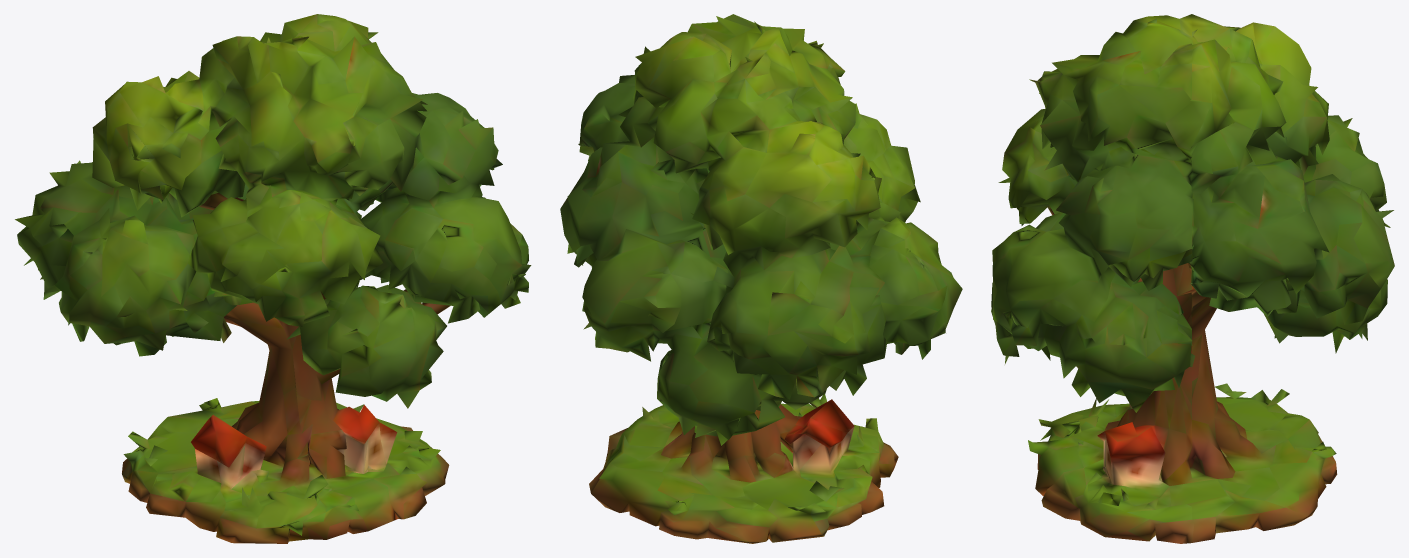
File: oak.glb
3 renders of one model, left to right at view 1: azimuth 30°, elevation 25°; view 2: azimuth 150°, elevation 25°; view 3: azimuth 270°, elevation 25°, orthographic. The views are drawn at different scales.
Parts seen in each view (by area): view 1: tripo_node_e95fb566-cb8d-4afc-b62c-7a11b6c46bbe; view 2: tripo_node_e95fb566-cb8d-4afc-b62c-7a11b6c46bbe; view 3: tripo_node_e95fb566-cb8d-4afc-b62c-7a11b6c46bbe.
Part boxes in pixels (x1,y1,x2,y2): tripo_node_e95fb566-cb8d-4afc-b62c-7a11b6c46bbe: [15, 14, 531, 543]; tripo_node_e95fb566-cb8d-4afc-b62c-7a11b6c46bbe: [560, 14, 962, 543]; tripo_node_e95fb566-cb8d-4afc-b62c-7a11b6c46bbe: [991, 14, 1394, 543].
Size of the model in its own units: 0.935 by 0.9766 by 0.7789.
Materials: 1 (1 with a texture image).
